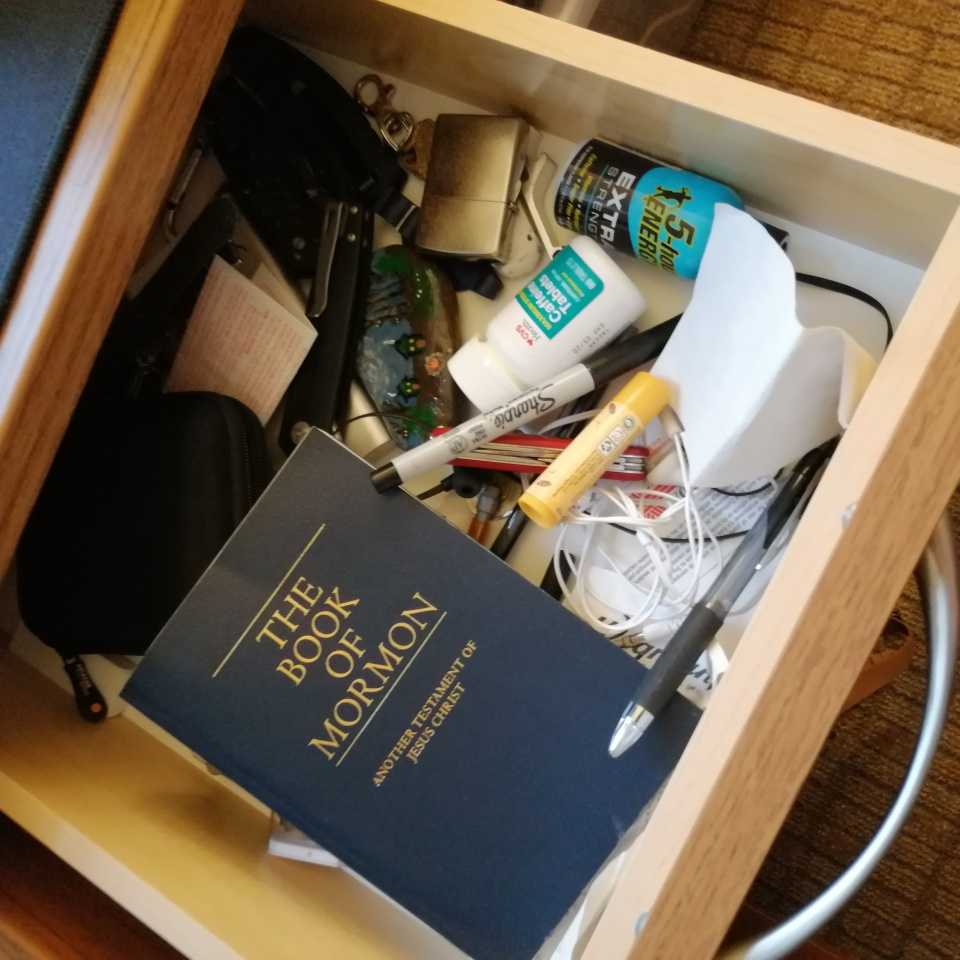chapstick: (519, 371, 670, 531)
